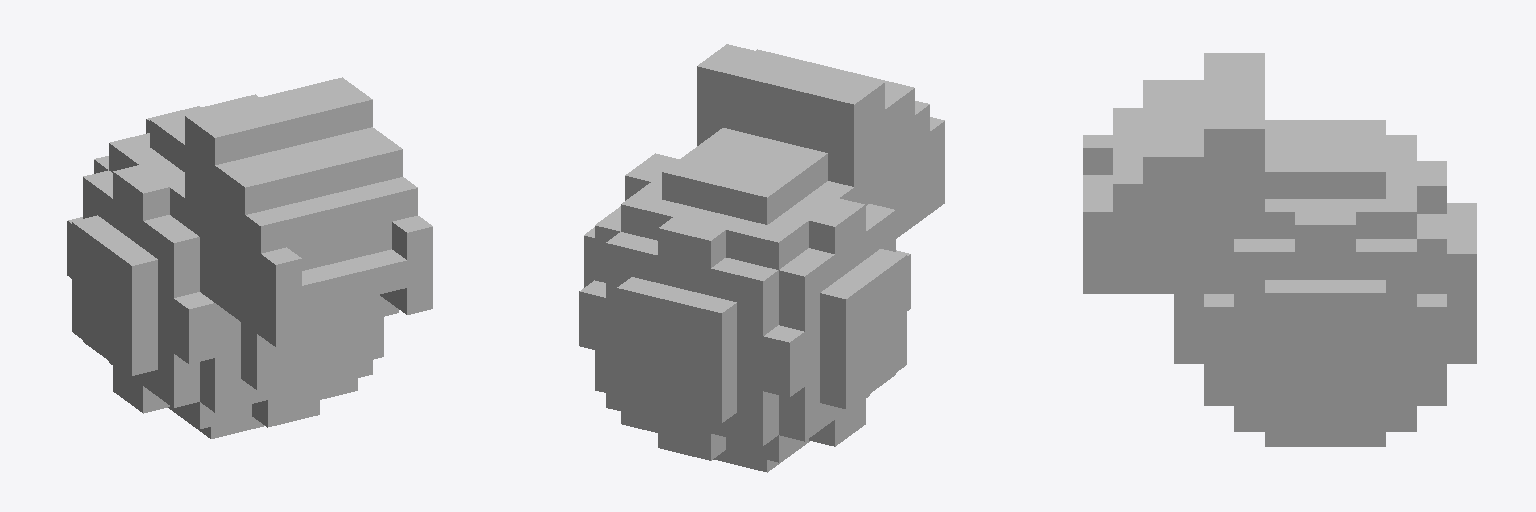
Rendered from Asteroid 02.obj.
The picture shows the model from 3 angles: view 1: azimuth 30°, elevation 25°; view 2: azimuth 150°, elevation 25°; view 3: azimuth 270°, elevation 25°; orthographic projection.
Visible parts, largest first — view 1: Asteroid 02; view 2: Asteroid 02; view 3: Asteroid 02.
Boxes of the visible parts, <box> form: Asteroid 02: <box>67,77,432,438</box>; Asteroid 02: <box>579,44,944,472</box>; Asteroid 02: <box>1083,53,1476,446</box>.
Bounding box in the file's own units: 10 × 12 × 13.